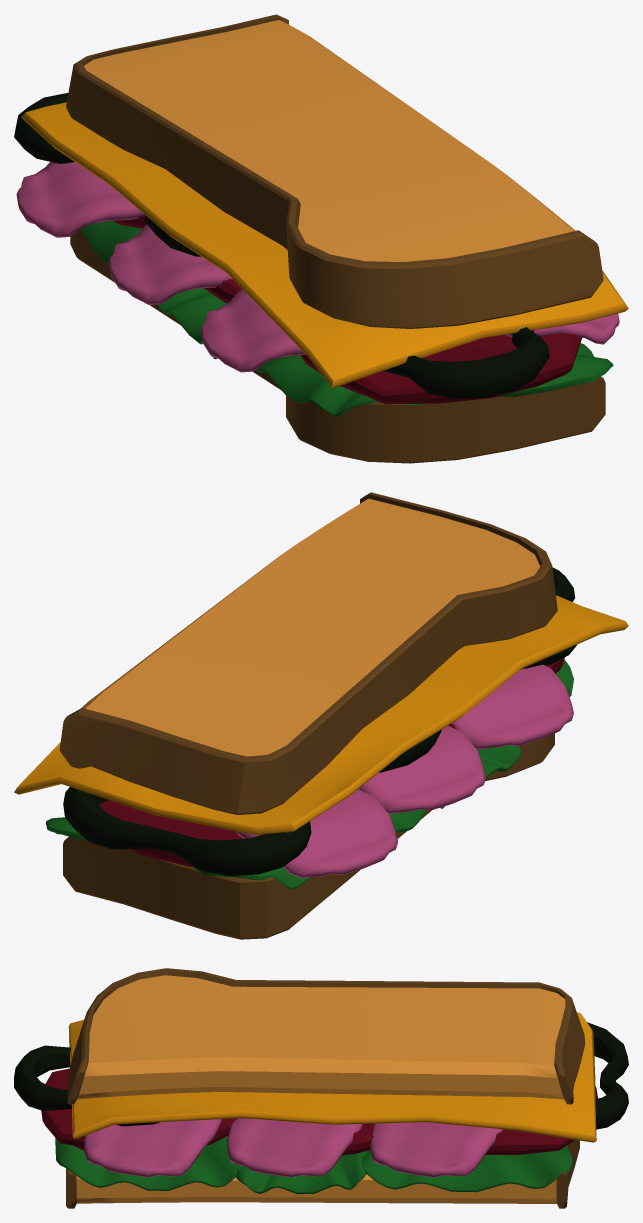
File: Sandwich_2.FBX
3 views of the same model, one above another, from view 1: azimuth 30°, elevation 25°; view 2: azimuth 150°, elevation 25°; view 3: azimuth 270°, elevation 25° (orthographic). The views are drawn at different scales.
Parts seen in each view (by area): view 1: Sandwich_2; view 2: Sandwich_2; view 3: Sandwich_2.
Boxes of the visible parts, <box> form: Sandwich_2: <box>14,14,628,463</box>; Sandwich_2: <box>14,492,628,939</box>; Sandwich_2: <box>14,968,628,1208</box>.
Bounding box in the file's own units: 617 × 1192 × 334.
